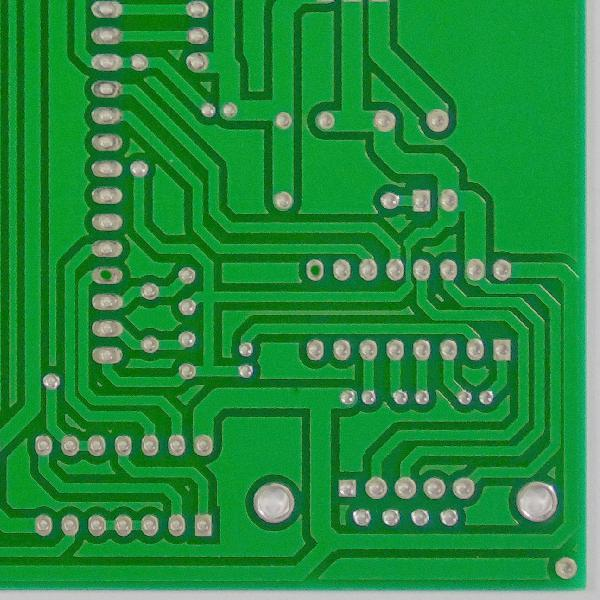missing_hole: (306, 258, 330, 285), (95, 264, 122, 287)
